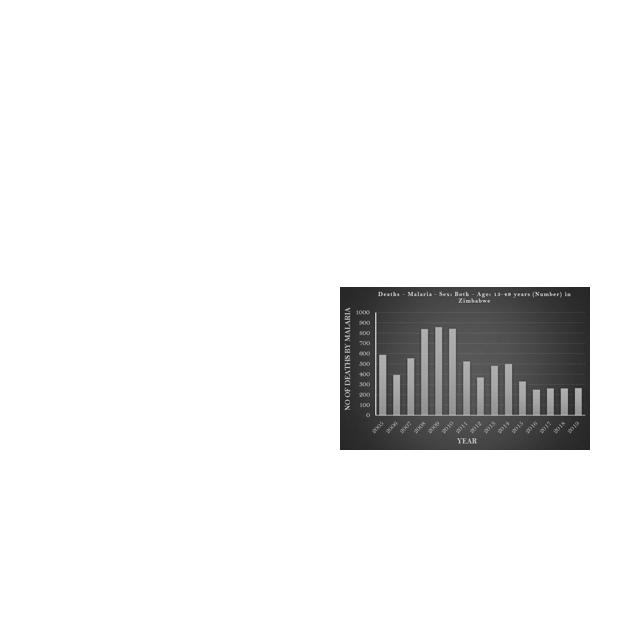Graph: (340, 287, 590, 450)
